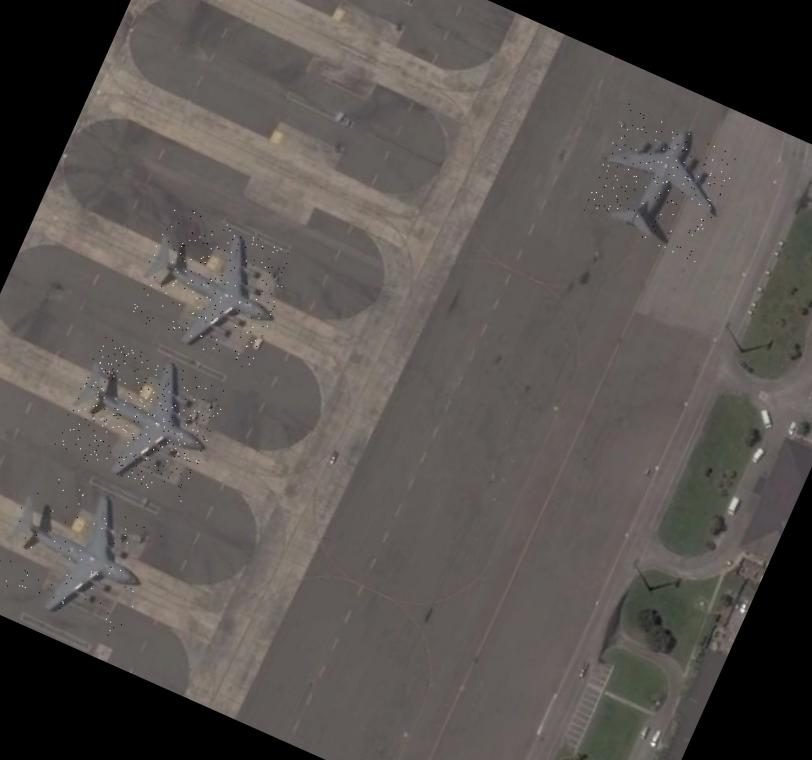A3: (125, 202, 300, 372), (54, 335, 230, 503), (0, 468, 169, 640), (580, 104, 742, 262)
